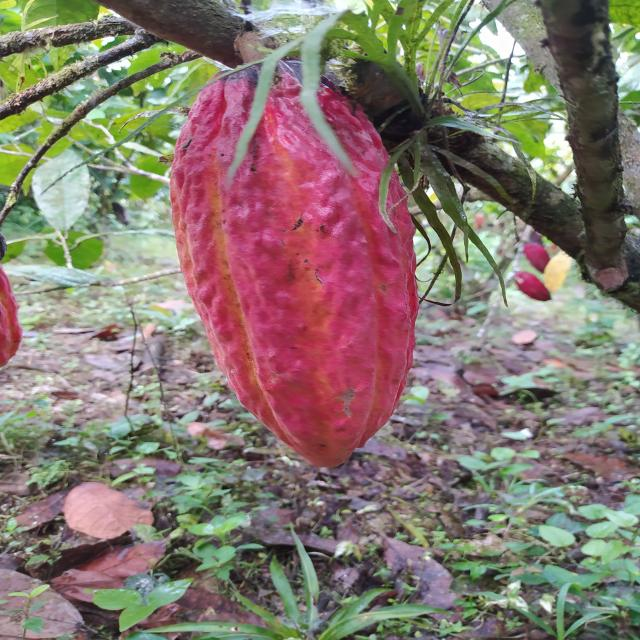Sana: (169, 66, 422, 469)
